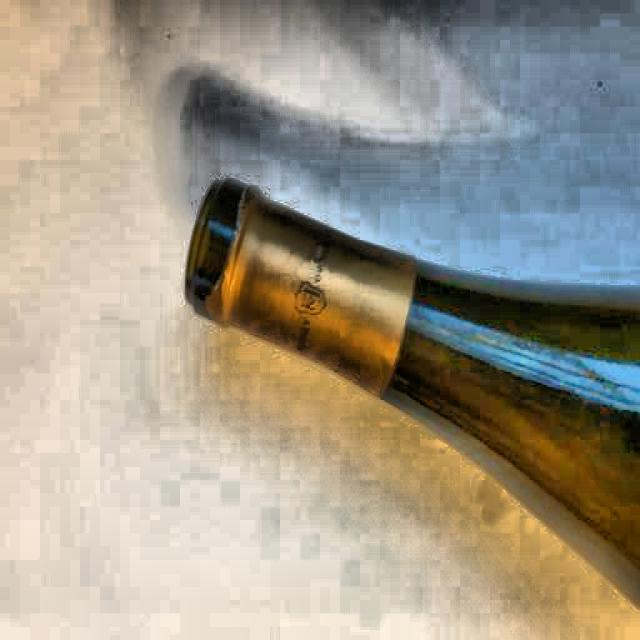glass: (178, 177, 640, 640)
